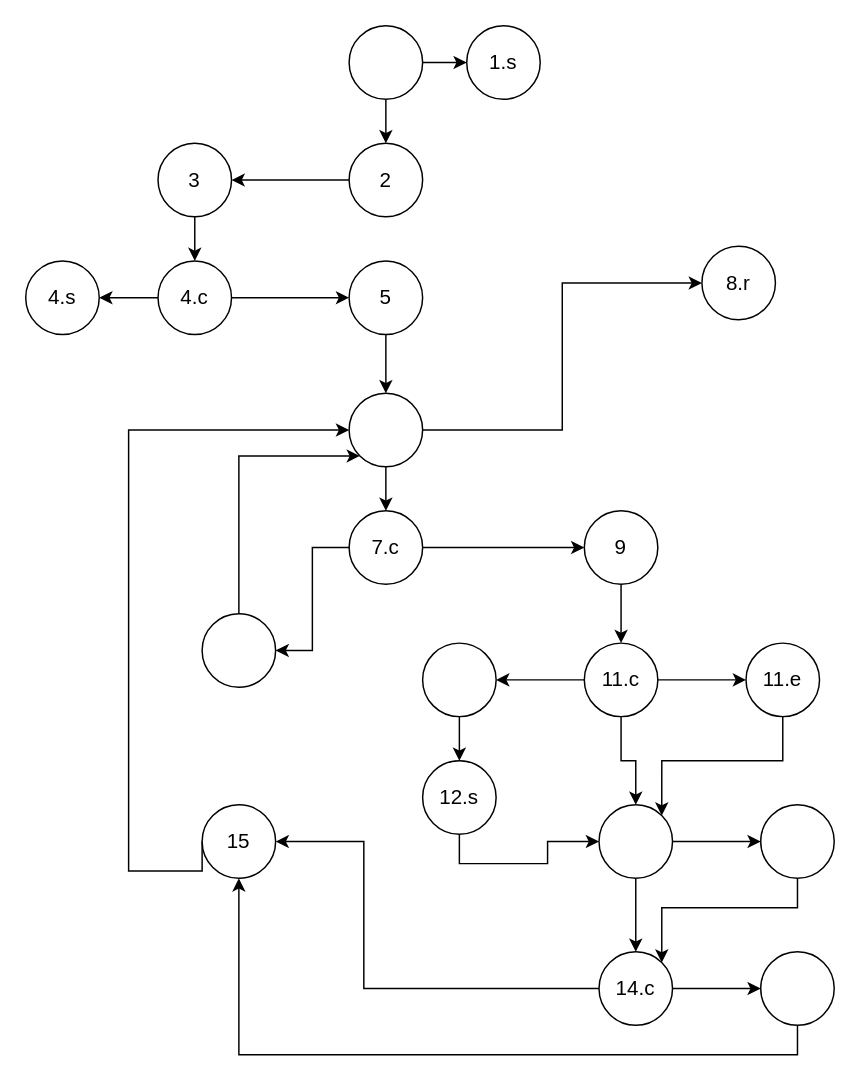
Some shapes in this 860 by 1092 pixel diagram are drawn without their labels. The centre of each missing label's shape, as x and y in pixels:
"1.c" belongs at [385,61].
"10.e" belongs at [238,649].
"12.c" belongs at [458,679].
"13.c" belongs at [635,840].
"13.s" belongs at [796,840].
"14.s" belongs at [796,987].
"6.f" belongs at [385,429].
